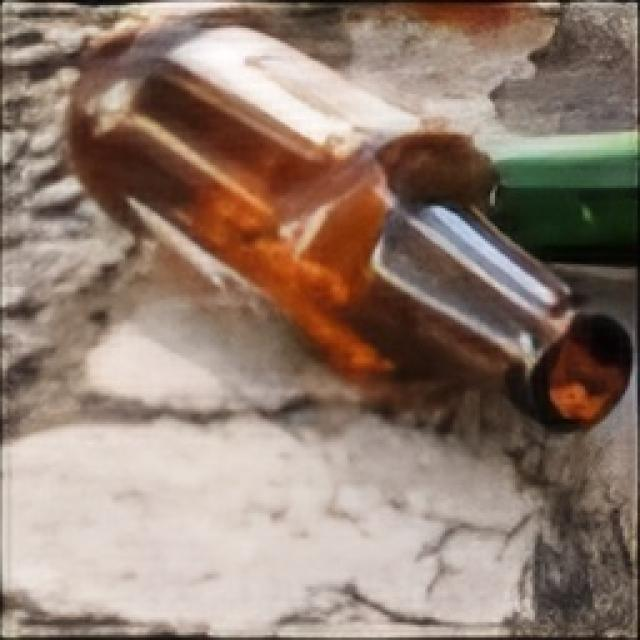glass bottle: (50, 0, 640, 532)
